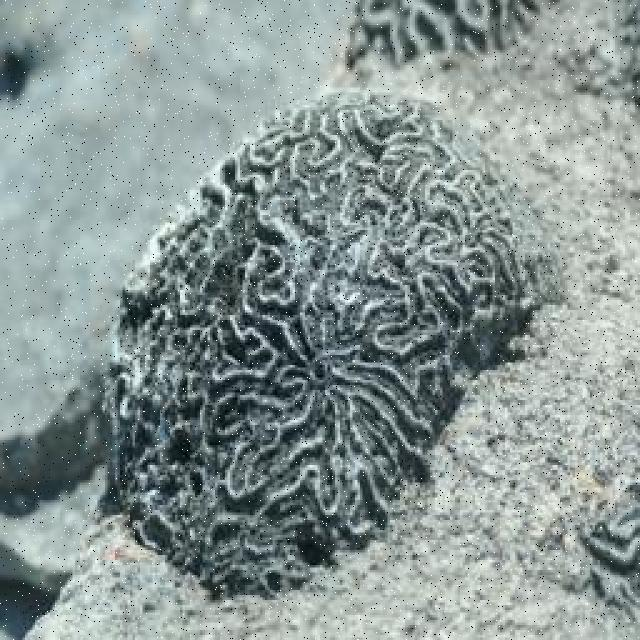reefs: (93, 89, 565, 603), (347, 1, 542, 69)
